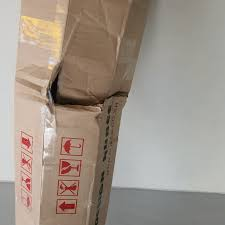damaged package: (39, 47, 134, 173)
